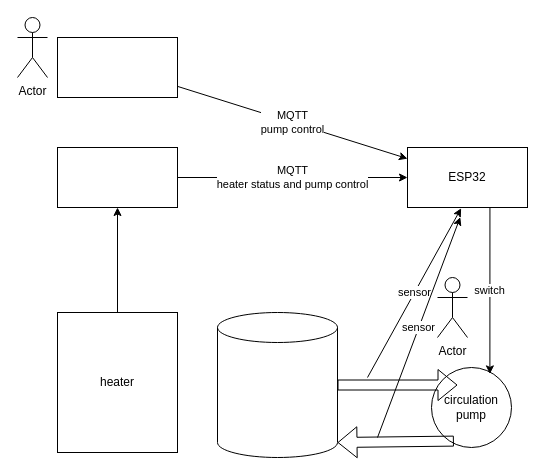
Some shapes in this 545 by 476 pixel diagram are drawn without their labels. The shapes that lost their labels are listed below. From the top down, each one's box as (x1, y1, x2, y2) in pixels, then its label:
(56, 36, 178, 98): Smart Home
(56, 146, 178, 208): HT3 Hometop
(216, 312, 338, 458): warm water tank
